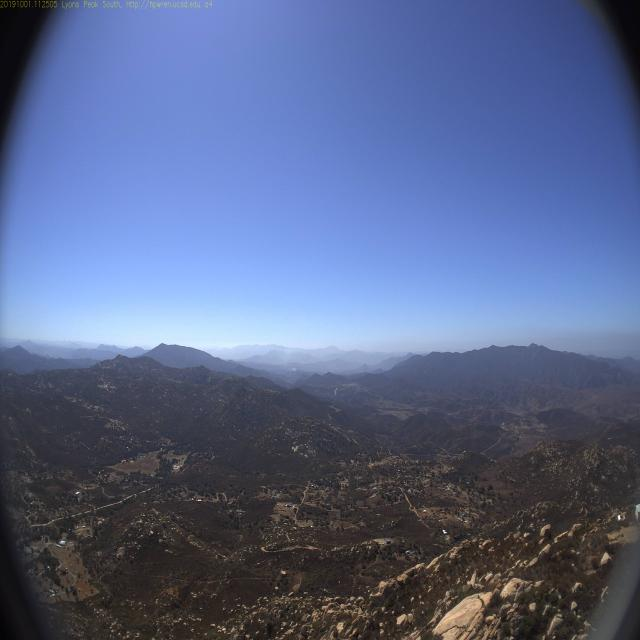smoke: (280, 348, 306, 378)
